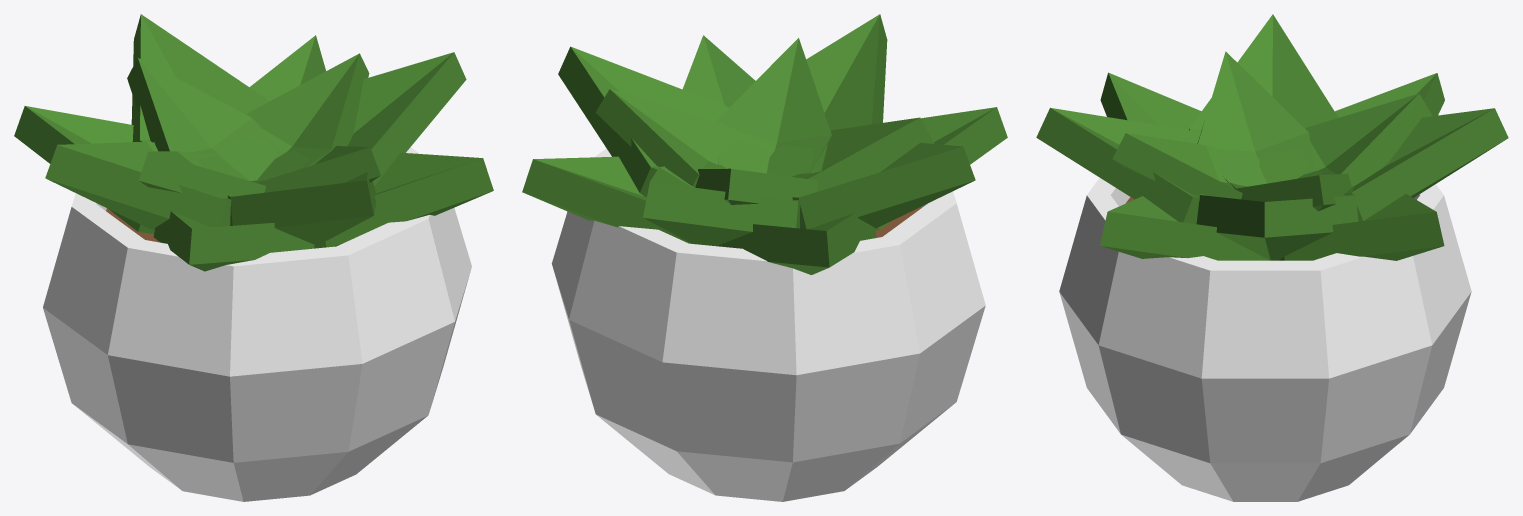
Rendered from furniture_pot-tiny-succulent-a.fbx.
3 views of the same model, side by side, from view 1: azimuth 30°, elevation 25°; view 2: azimuth 150°, elevation 25°; view 3: azimuth 270°, elevation 25° (orthographic). The views are drawn at different scales.
Visible parts, largest first — view 1: furniture_pot_tiny_succulent_a; view 2: furniture_pot_tiny_succulent_a; view 3: furniture_pot_tiny_succulent_a.
Part boxes in pixels (<box>): furniture_pot_tiny_succulent_a: <box>14,14,493,501</box>; furniture_pot_tiny_succulent_a: <box>522,14,1007,501</box>; furniture_pot_tiny_succulent_a: <box>1036,14,1508,501</box>.
Size of the model in its own units: 200 by 164 by 200.
